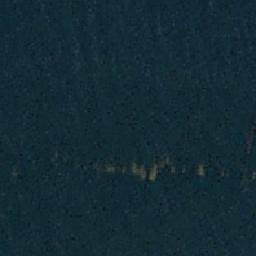debris: (99, 163, 169, 180), (193, 165, 208, 178)
